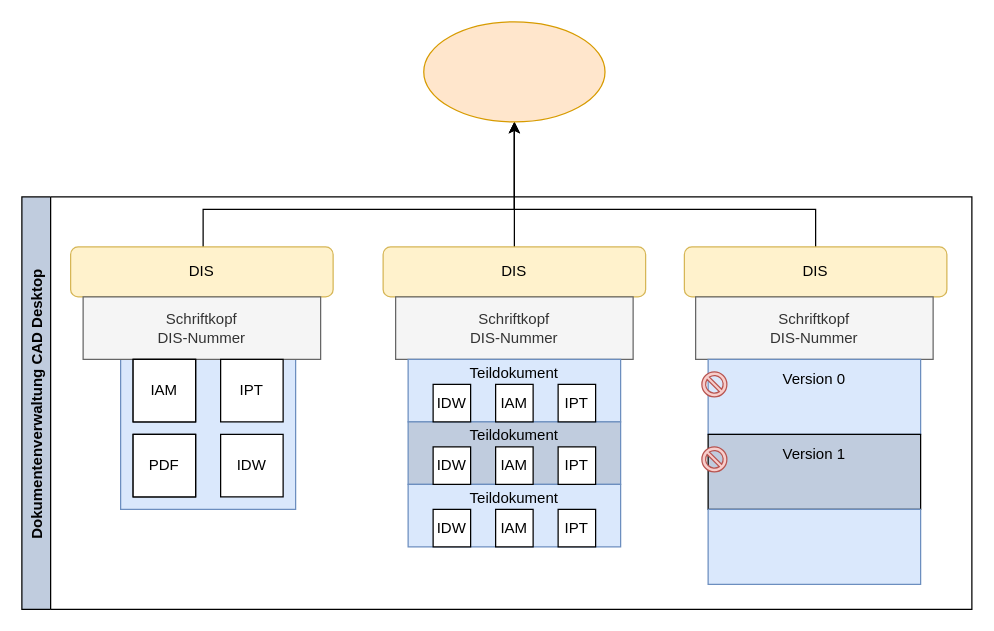
The diagram is 994 pixels wide and 631 high, and some of its shapes have lost their labels. Here are the shapes that lost their labels. From the top down, the centre of each, then its label:
At point 513,71: "Material Materialnummer".
At point 814,546: "Version 2".
